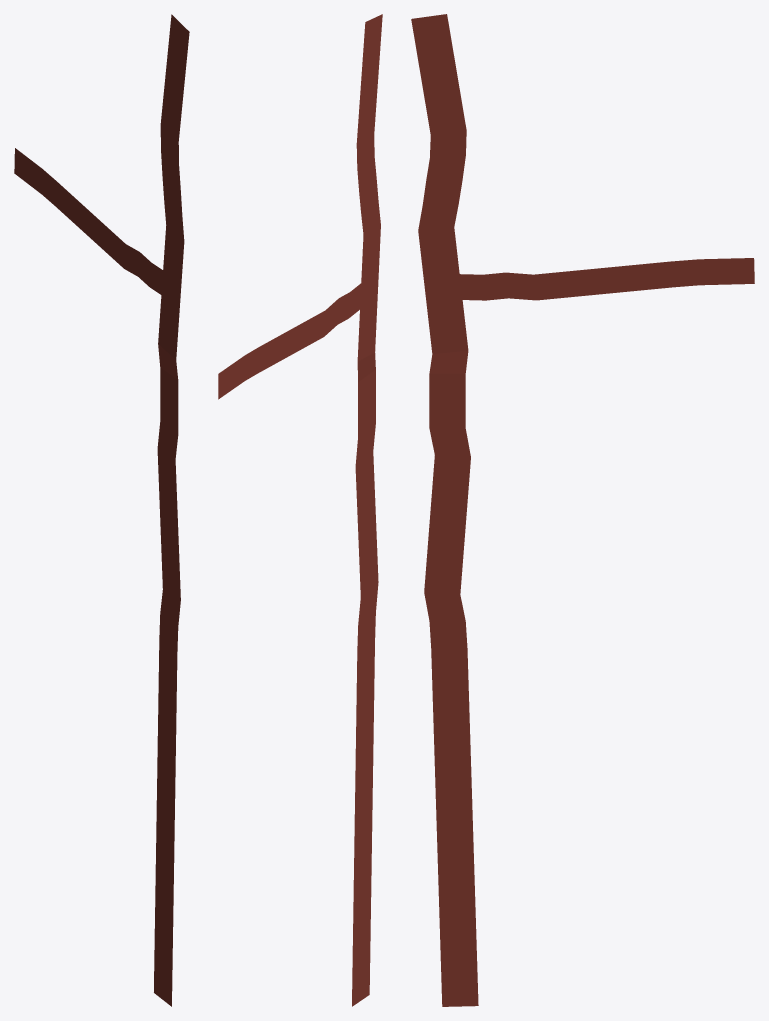
The model's file is BicifijoFondo.fbx.
The picture shows the model from 3 angles, left to right: view 1: azimuth 30°, elevation 25°; view 2: azimuth 150°, elevation 25°; view 3: azimuth 270°, elevation 25°; orthographic projection. The views are drawn at different scales.
Visible parts, largest first — view 1: BicifijoFondo; view 2: BicifijoFondo; view 3: BicifijoFondo.
Boxes of the visible parts, bbox=[...] form: BicifijoFondo: bbox=[14, 14, 189, 1006]; BicifijoFondo: bbox=[218, 14, 382, 1006]; BicifijoFondo: bbox=[411, 14, 754, 1006].
Size of the model in its own units: 331 by 80044 by 25083.
